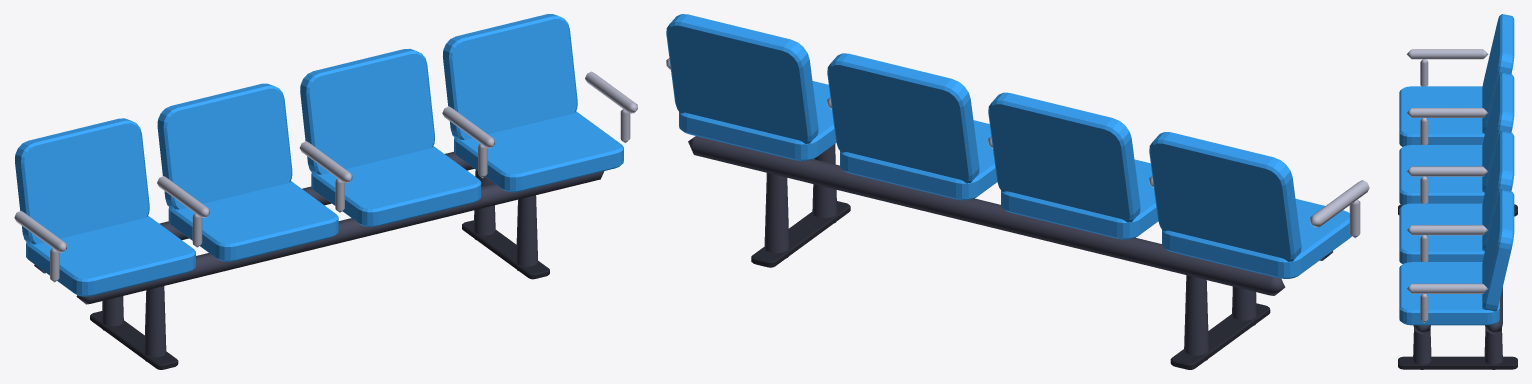
Rendered from gate_seat_row.glb.
3 views of the same model, side by side, from view 1: azimuth 30°, elevation 25°; view 2: azimuth 150°, elevation 25°; view 3: azimuth 270°, elevation 25° (orthographic). The views are drawn at different scales.
Visible parts, largest first — view 1: row_back_1, row_back_0, row_back_2, row_back_3, row_seat_2, row_seat_1, row_seat_0, row_seat_3, row_beam_front, row_leg_0, row_leg_1, row_foot_1 (+9 smaller); view 2: row_back_0, row_back_1, row_back_3, row_back_2, row_beam_back, row_seat_0, row_seat_2, row_seat_1, row_seat_3, row_leg_b_1, row_leg_b_0, row_foot_0 (+4 smaller); view 3: row_seat_3, row_seat_1, row_seat_2, row_seat_0, row_back_3, row_back_1, row_back_2, row_back_0, row_foot_1, row_arm_0, row_arm_2, row_arm_4 (+11 smaller).
Part boxes in pixels (x1=…): row_back_1: x1=157, y1=83, x2=292, y2=209; row_back_0: x1=15, y1=118, x2=149, y2=244; row_back_2: x1=300, y1=48, x2=434, y2=174; row_back_3: x1=443, y1=14, x2=577, y2=139; row_seat_2: x1=311, y1=146, x2=481, y2=226; row_seat_1: x1=168, y1=181, x2=338, y2=261; row_seat_0: x1=26, y1=215, x2=195, y2=296; row_seat_3: x1=454, y1=111, x2=623, y2=192; row_beam_front: x1=76, y1=171, x2=604, y2=304; row_leg_0: x1=144, y1=286, x2=166, y2=361; row_leg_1: x1=516, y1=195, x2=537, y2=270; row_foot_1: x1=462, y1=220, x2=549, y2=279; row_back_0: x1=1149, y1=132, x2=1301, y2=261; row_back_1: x1=988, y1=92, x2=1140, y2=222; row_back_3: x1=666, y1=14, x2=818, y2=143; row_back_2: x1=827, y1=53, x2=979, y2=183; row_beam_back: x1=688, y1=136, x2=1285, y2=295; row_seat_0: x1=1162, y1=198, x2=1351, y2=278; row_seat_2: x1=840, y1=120, x2=997, y2=200; row_seat_1: x1=1001, y1=159, x2=1158, y2=239; row_seat_3: x1=679, y1=81, x2=836, y2=160; row_leg_b_1: x1=764, y1=173, x2=789, y2=258; row_leg_b_0: x1=1184, y1=275, x2=1208, y2=360; row_foot_0: x1=1170, y1=303, x2=1270, y2=369; row_seat_3: x1=1399, y1=262, x2=1499, y2=325; row_seat_1: x1=1399, y1=145, x2=1484, y2=205; row_seat_2: x1=1399, y1=203, x2=1484, y2=264; row_seat_0: x1=1399, y1=86, x2=1484, y2=146; row_back_3: x1=1482, y1=190, x2=1514, y2=311; row_back_1: x1=1482, y1=72, x2=1514, y2=192; row_back_2: x1=1482, y1=131, x2=1514, y2=251; row_back_0: x1=1482, y1=14, x2=1514, y2=133; row_foot_1: x1=1398, y1=356, x2=1517, y2=369; row_arm_0: x1=1406, y1=49, x2=1488, y2=59; row_arm_2: x1=1406, y1=166, x2=1488, y2=176; row_arm_4: x1=1406, y1=283, x2=1488, y2=293.
Size of the model in its own units: 2.69 by 0.8804 by 0.57.
